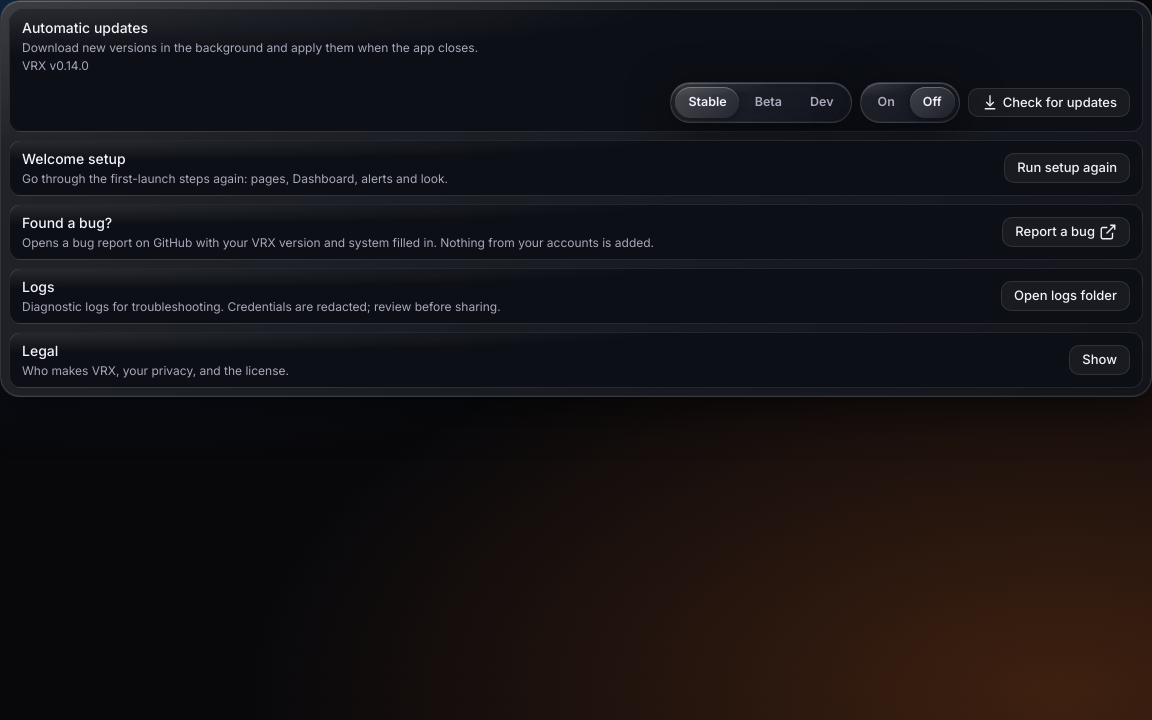
Test: Settings logs row › asks main to open the logs folder and reports a failure
This screenshot has width=1152, height=720.
Step 1. Click the button "Open logs folder" → click(1066, 296), box 1001,281 -> 1130,310
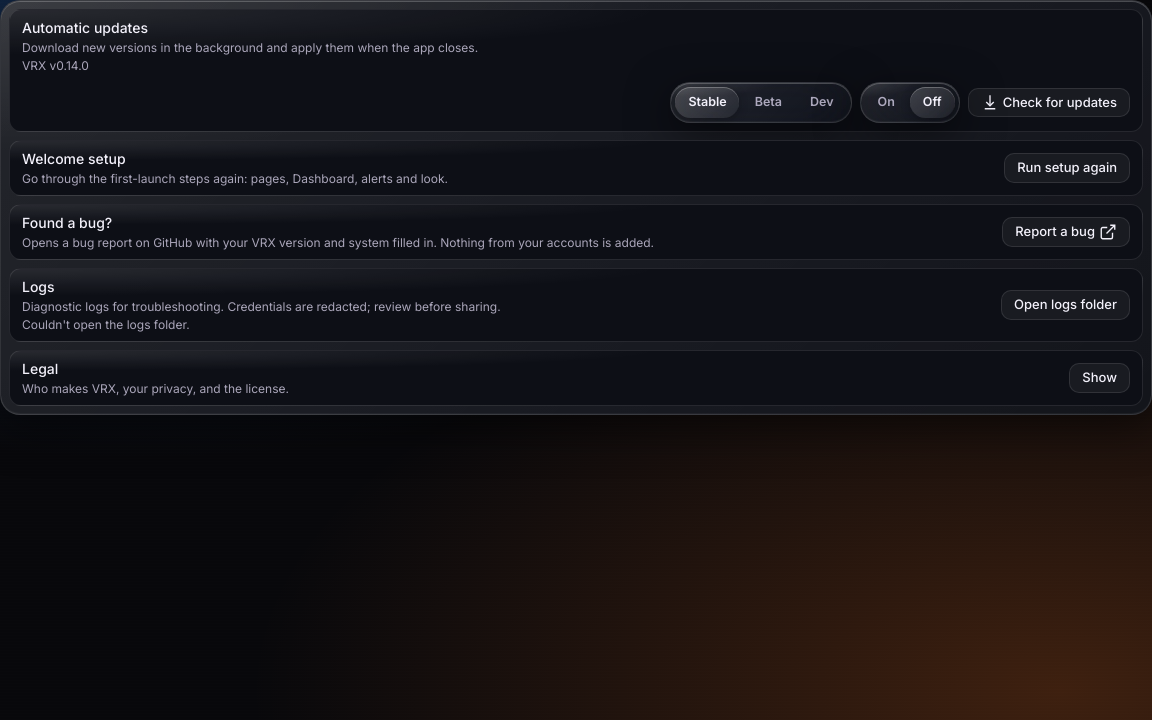
expect the message reads "Couldn't open the logs folder.": met, box 22,317 -> 190,332
